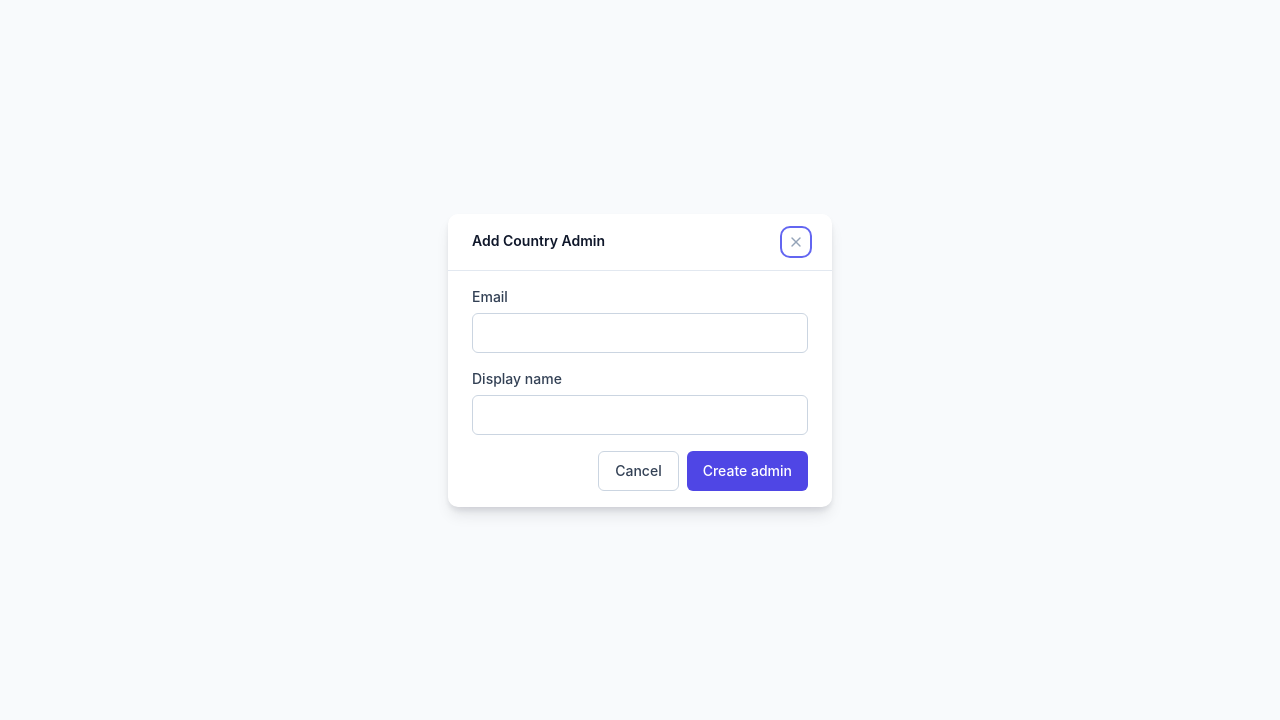
Test: AddCountryAdminModal › shows the server message on an ApiError failure (e.g. duplicate email)
Type "admin@example.invalid" into the field labelled "Email" at (640, 332), box [472,312,808,352]
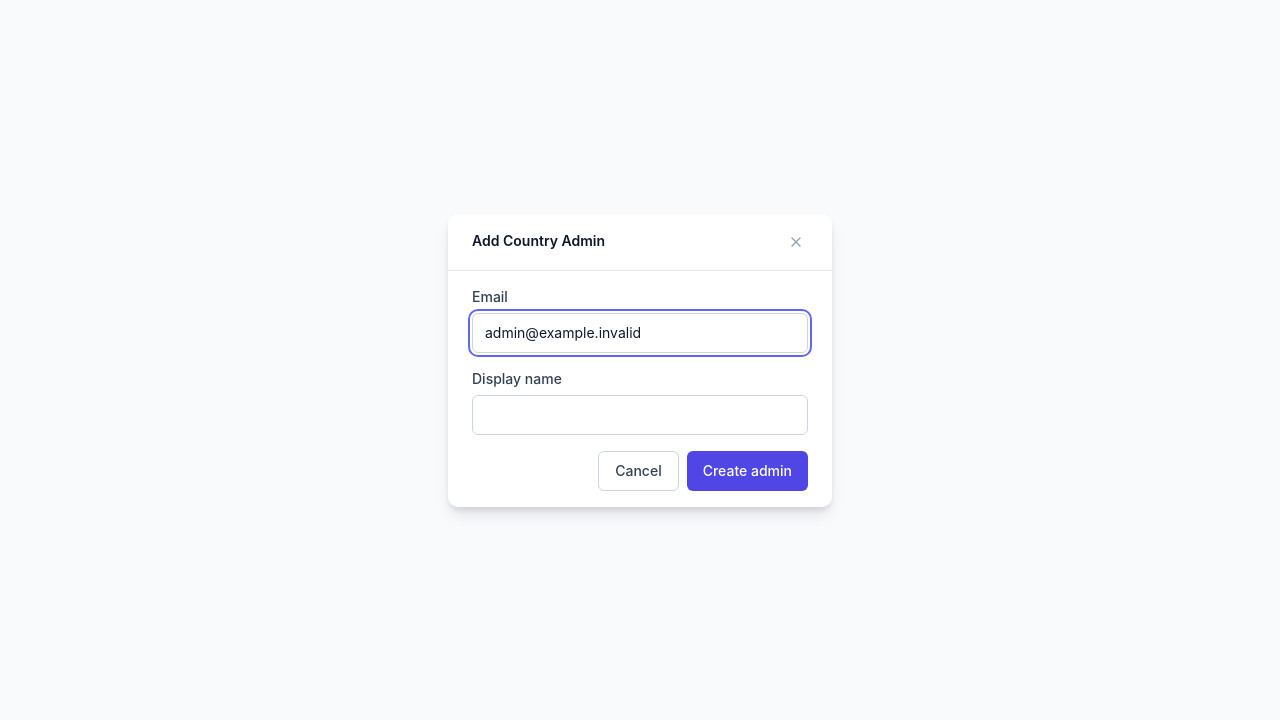
Type "Admin" into the field labelled "Display name" at (640, 414), box [472,394,808,434]
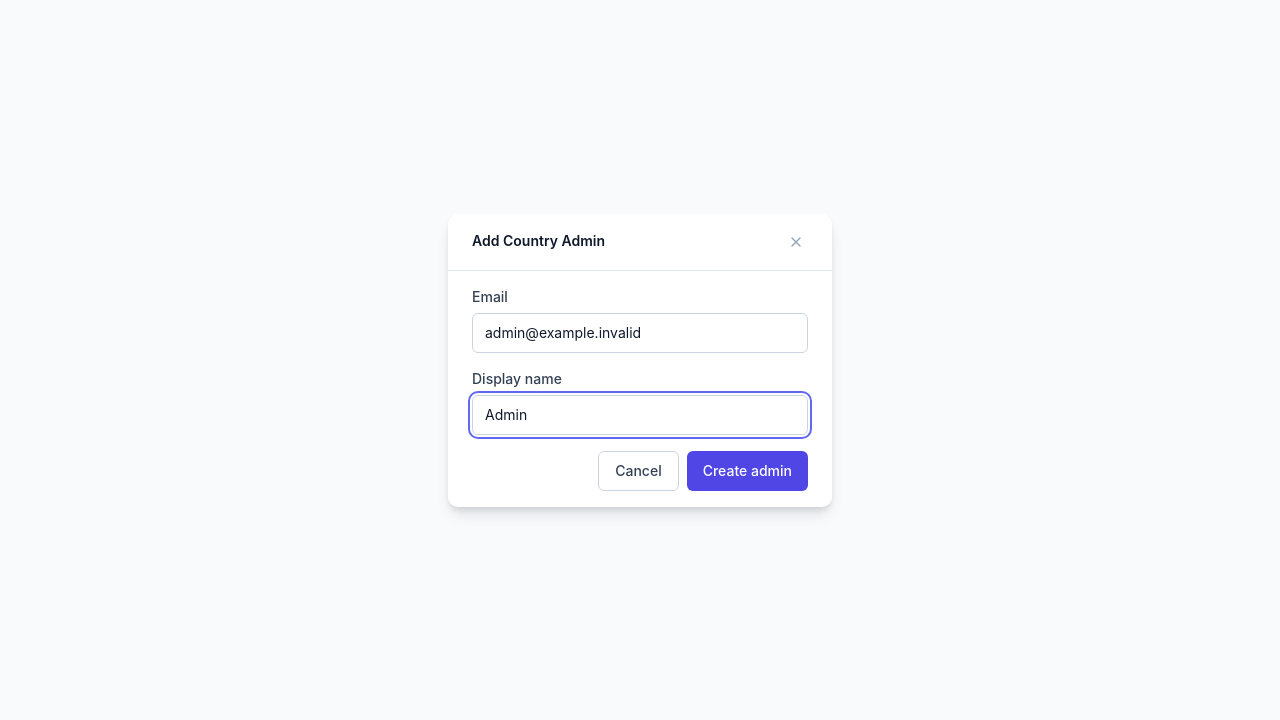
Click the button "Create admin" at (747, 470), box [687,450,808,490]
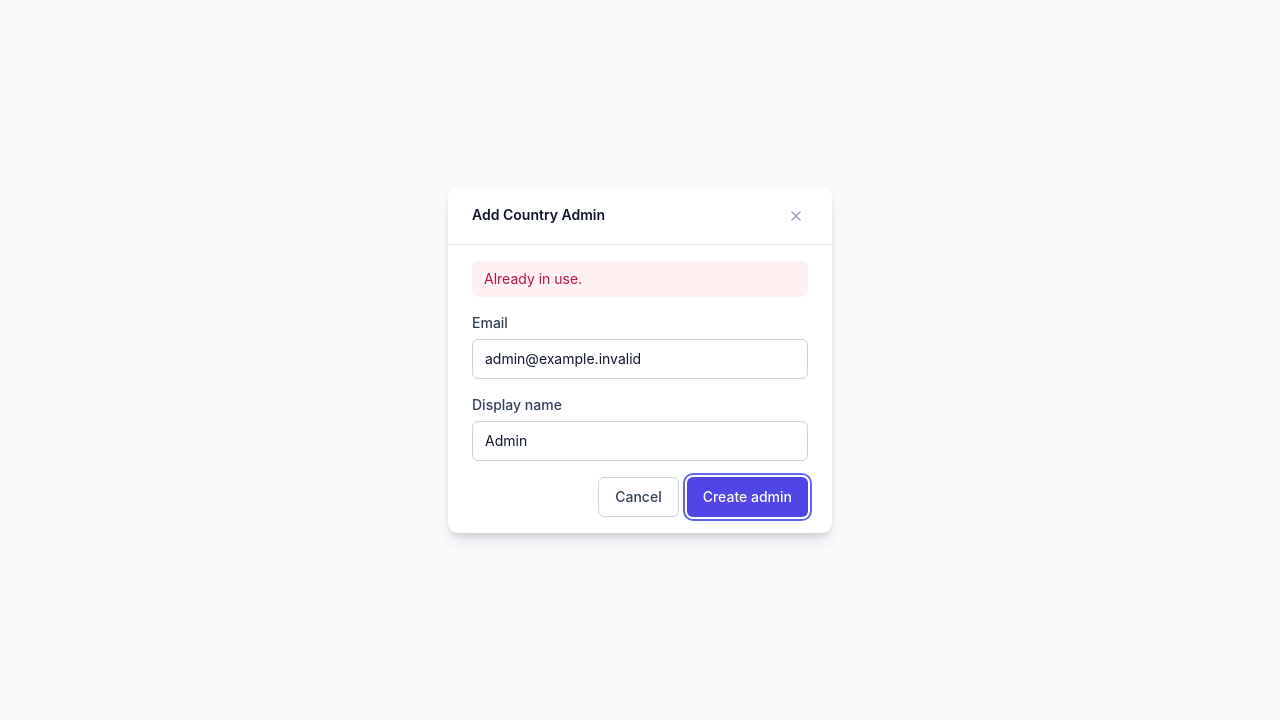
expect the message reads "Already in use.": met, box [484,270,582,286]
